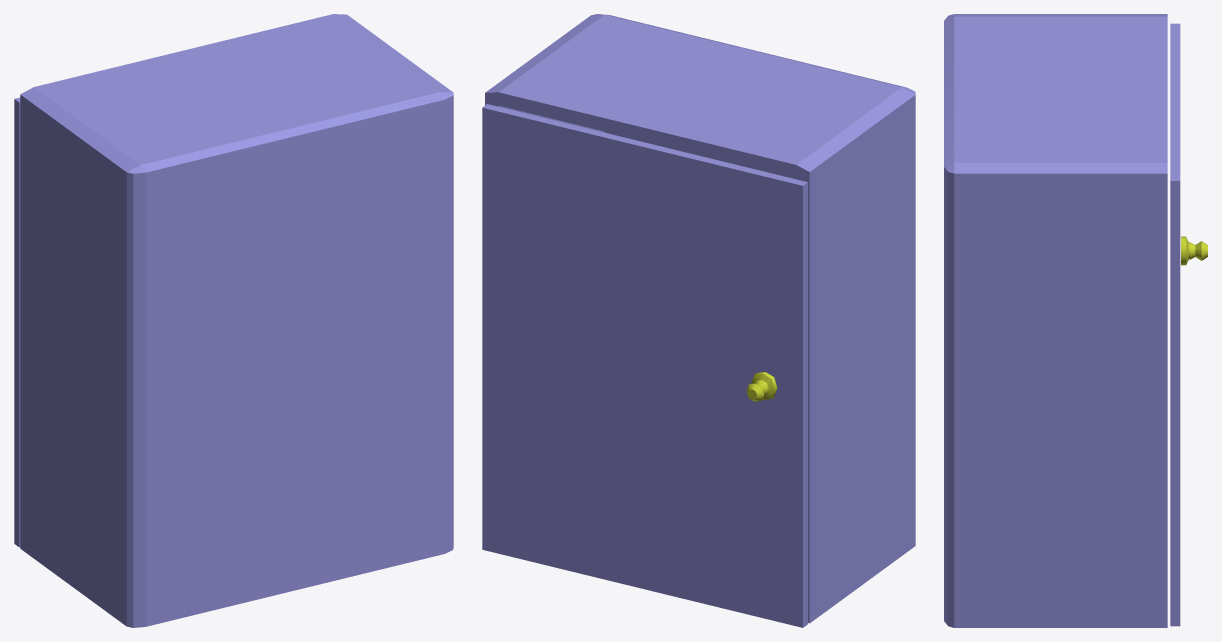
The model's file is Prop_closet5.FBX.
The picture shows the model from 3 angles, left to right: view 1: azimuth 30°, elevation 25°; view 2: azimuth 150°, elevation 25°; view 3: azimuth 270°, elevation 25°; orthographic projection.
Parts seen in each view (by area): view 1: Prop_closet017, Prop_closet018; view 2: Prop_closet018, Prop_closet017, ModuleE_doorhandlep_063; view 3: Prop_closet017, Prop_closet018, ModuleE_doorhandlep_063.
Part boxes in pixels (left/top/right/bottom): Prop_closet017: left=20, top=14, right=453, bottom=627; Prop_closet018: left=14, top=97, right=20, bottom=547; Prop_closet018: left=482, top=104, right=807, bottom=627; Prop_closet017: left=485, top=14, right=915, bottom=623; ModuleE_doorhandlep_063: left=746, top=372, right=777, bottom=401; Prop_closet017: left=944, top=14, right=1167, bottom=627; Prop_closet018: left=1170, top=23, right=1180, bottom=626; ModuleE_doorhandlep_063: left=1181, top=236, right=1207, bottom=265.
Bounding box in the file's own units: 28.14 × 19.65 × 37.68.
